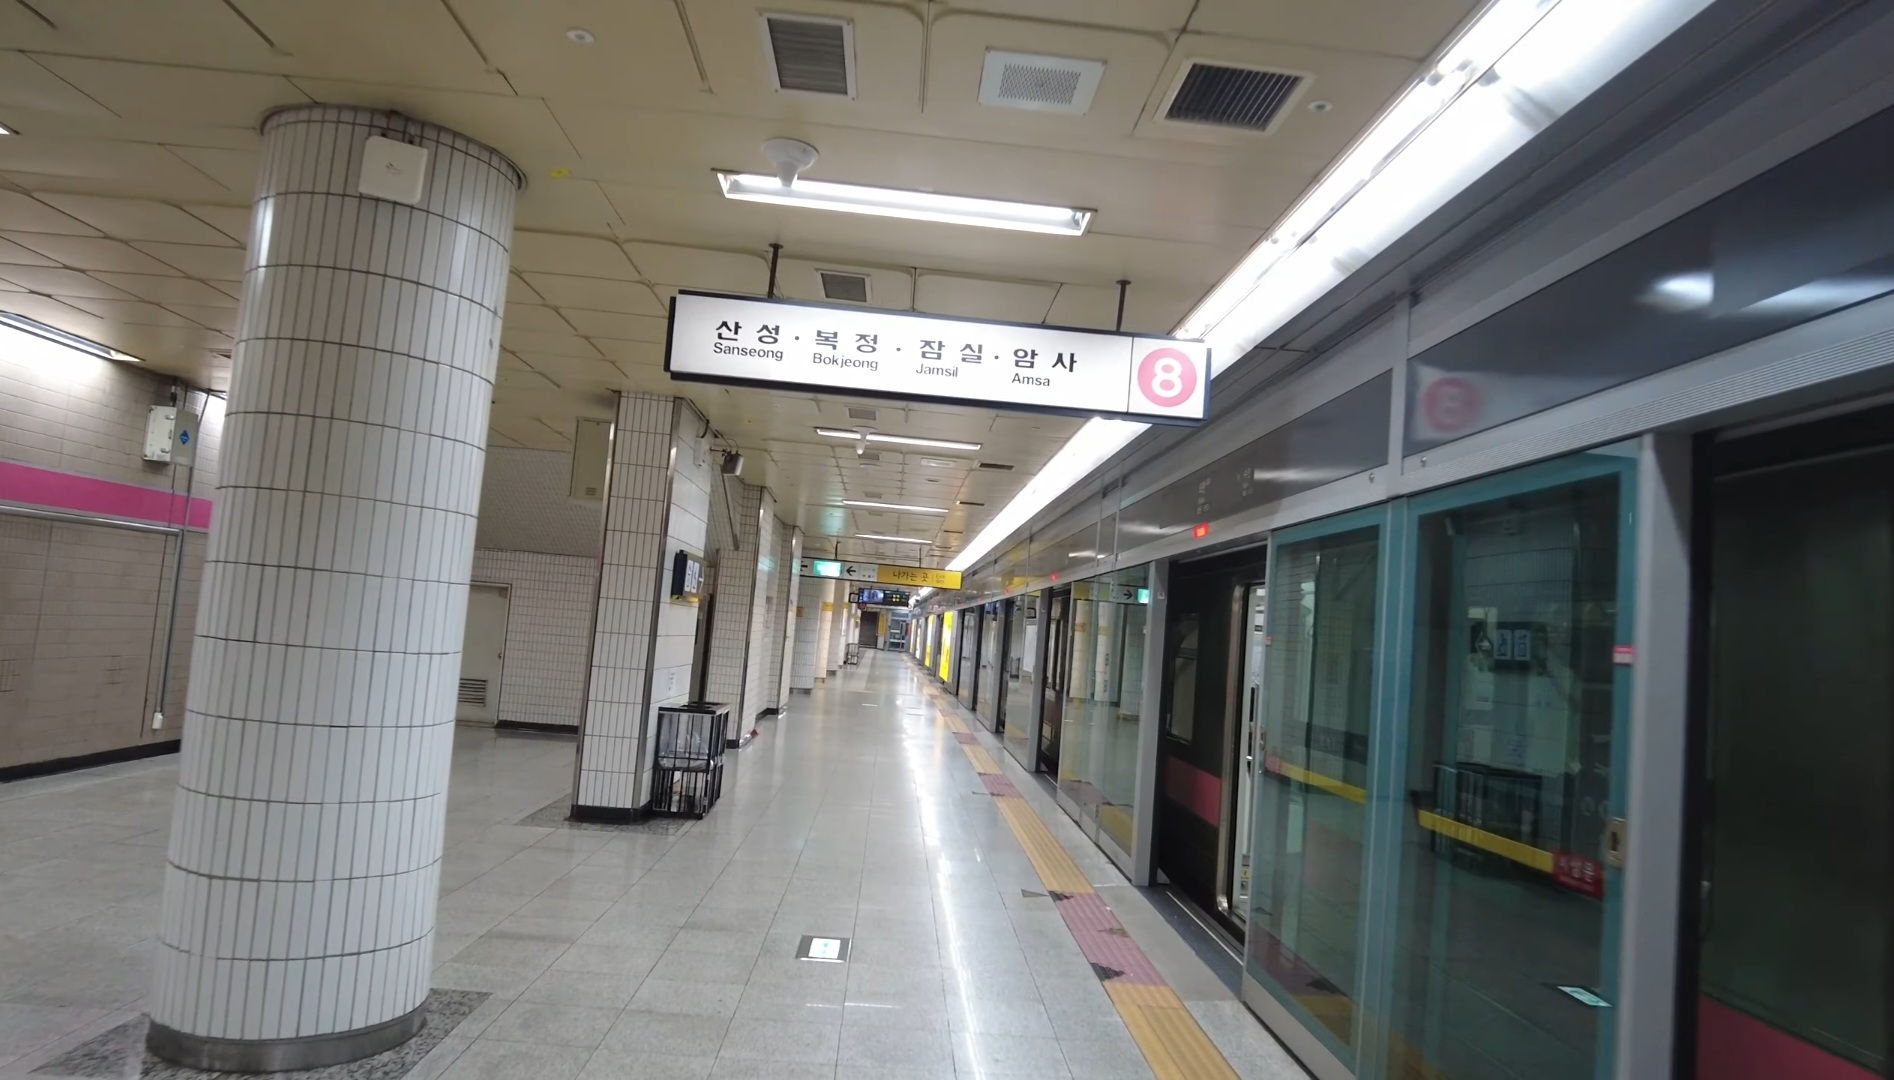signBoard: (662, 280, 1218, 450)
